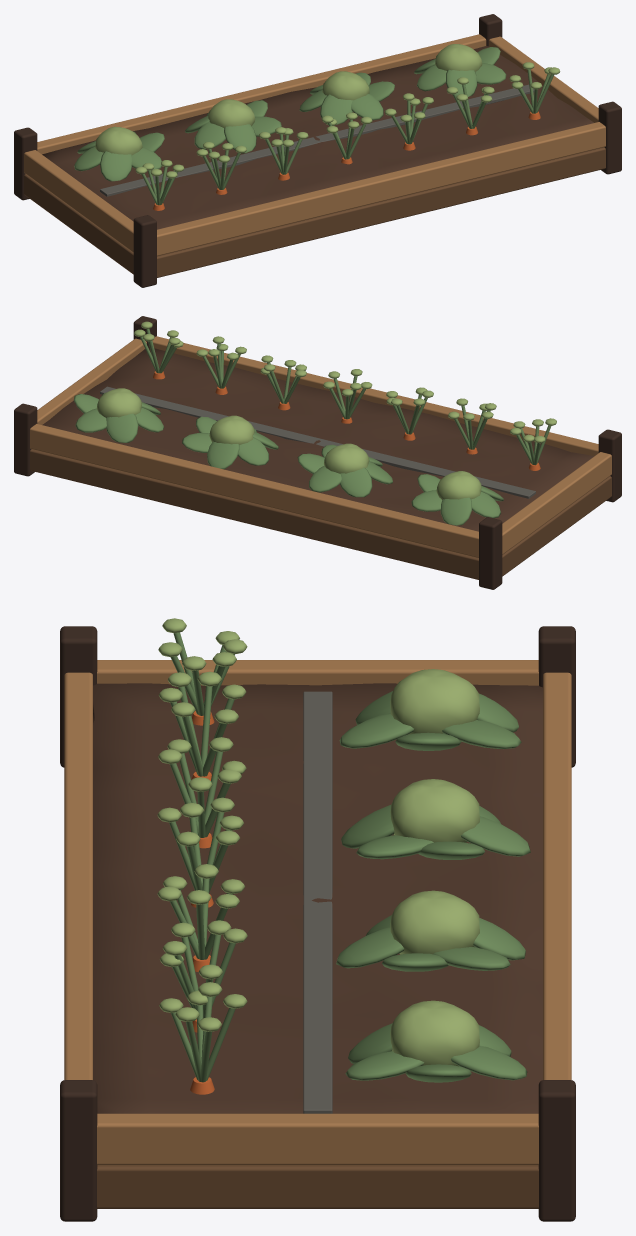
Rendered from detail_garden_bed.glb.
3 views of the same model, one above another, from view 1: azimuth 30°, elevation 25°; view 2: azimuth 150°, elevation 25°; view 3: azimuth 270°, elevation 25° (orthographic). The views are drawn at different scales.
Visible parts, largest first — view 1: wood, cloth, stone; view 2: wood, cloth, stone; view 3: wood, cloth, stone.
Part boxes in pixels (<box>): wood: <box>14,14,621,287</box>; cloth: <box>74,44,560,205</box>; stone: <box>100,84,534,196</box>; wood: <box>14,316,621,589</box>; cloth: <box>74,321,556,525</box>; stone: <box>100,386,535,498</box>; wood: <box>60,626,575,1221</box>; cloth: <box>157,618,530,1082</box>; stone: <box>303,691,332,1113</box>.
Size of the model in its own units: 2.8 by 0.5 by 1.3.
